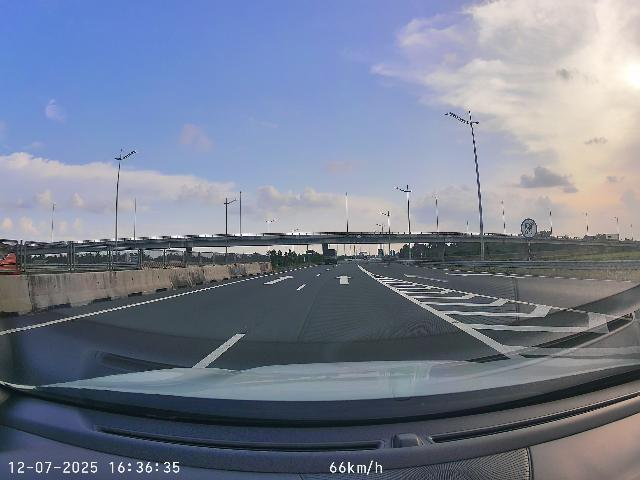134-het-han-che-toc-do-toi-da: (521, 218, 538, 239)
